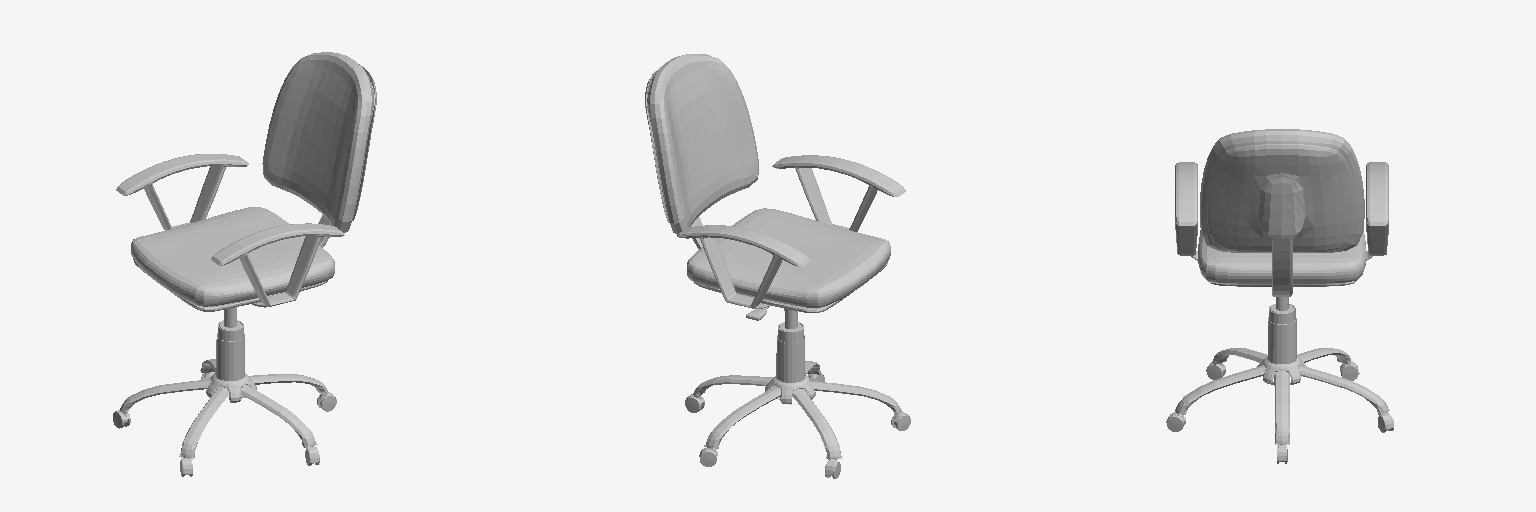
The model's file is cadeira2.obj.
3 views of the same model, side by side, from view 1: azimuth 30°, elevation 25°; view 2: azimuth 150°, elevation 25°; view 3: azimuth 270°, elevation 25° (orthographic).
Visible parts, largest first — view 1: Chair.001_Chair.006; view 2: Chair.001_Chair.006; view 3: Chair.001_Chair.006.
Boxes of the visible parts, x1=… form: Chair.001_Chair.006: x1=113, y1=52, x2=376, y2=476; Chair.001_Chair.006: x1=645, y1=54, x2=910, y2=478; Chair.001_Chair.006: x1=1166, y1=129, x2=1393, y2=463.
Size of the model in its own units: 4.94 by 7.51 by 4.52.